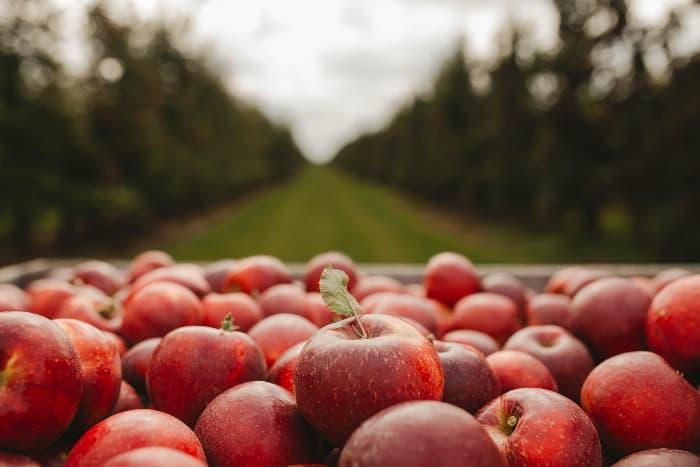apple: (294, 312, 447, 446), (578, 347, 698, 458), (145, 325, 266, 424), (1, 310, 80, 452), (194, 380, 322, 466), (337, 401, 502, 463), (475, 388, 602, 465), (46, 313, 122, 426), (62, 408, 203, 465), (115, 277, 208, 344), (431, 343, 496, 413)
